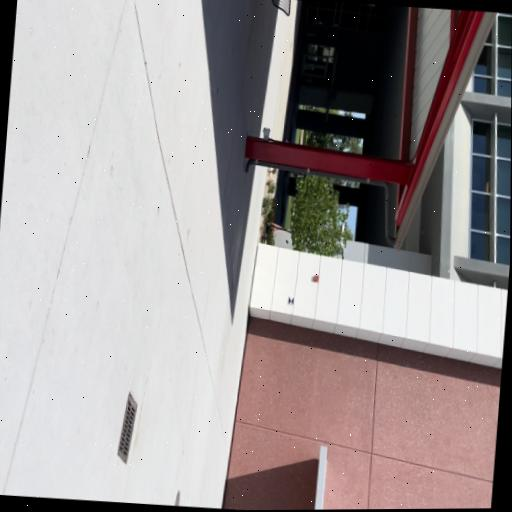target9: (288, 296, 294, 306)
